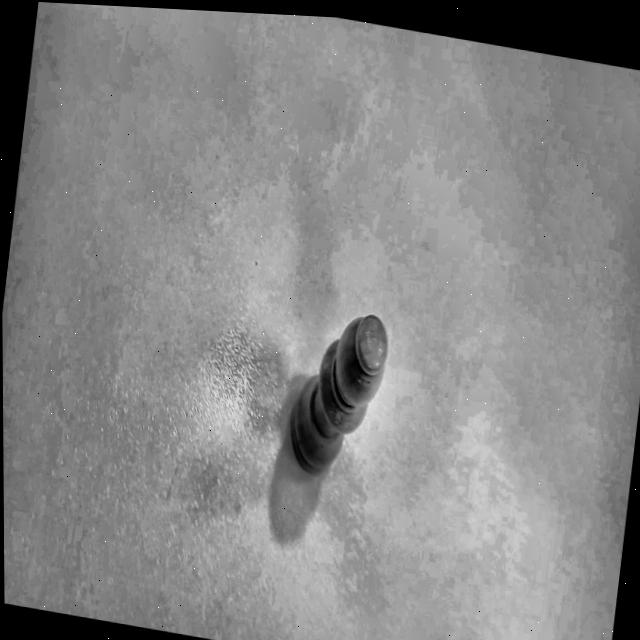white-bishop: (255, 271, 409, 531)
